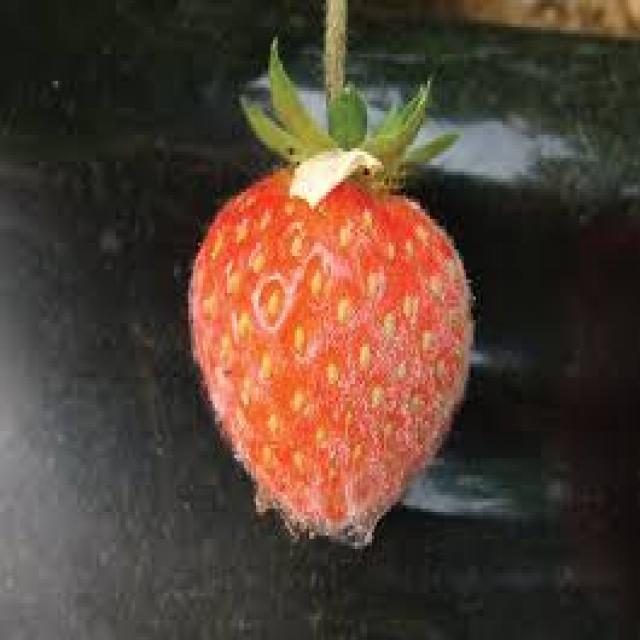Oído: (162, 160, 480, 560)
